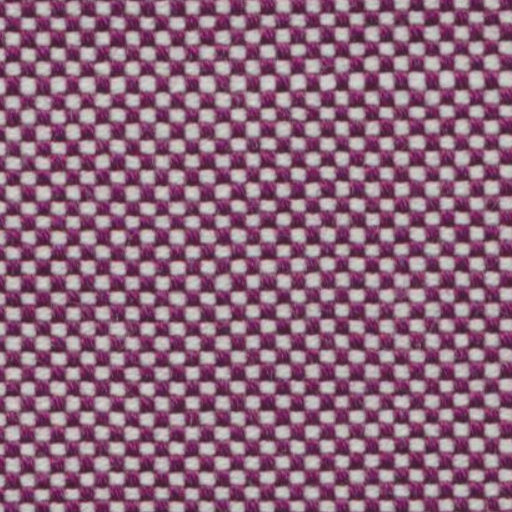TuoSha: (5, 55, 496, 102)
